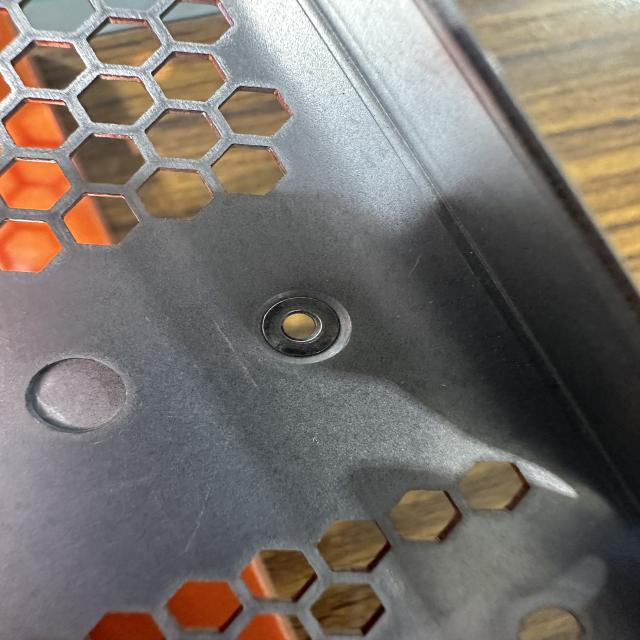Missing screw: (246, 284, 357, 370)
